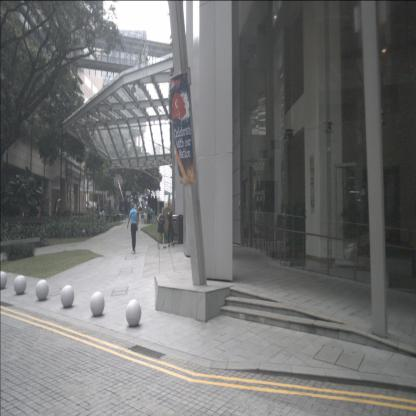human-pedestrian-adult: (127, 202, 138, 254), (157, 207, 166, 249), (167, 203, 174, 247), (96, 205, 100, 220), (147, 205, 150, 224), (136, 204, 139, 223), (100, 206, 102, 220)
